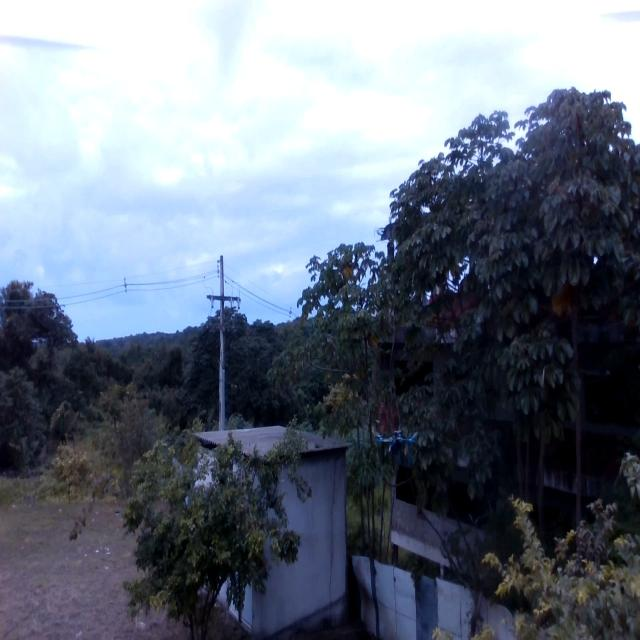-uav-: (362, 415, 428, 475)
